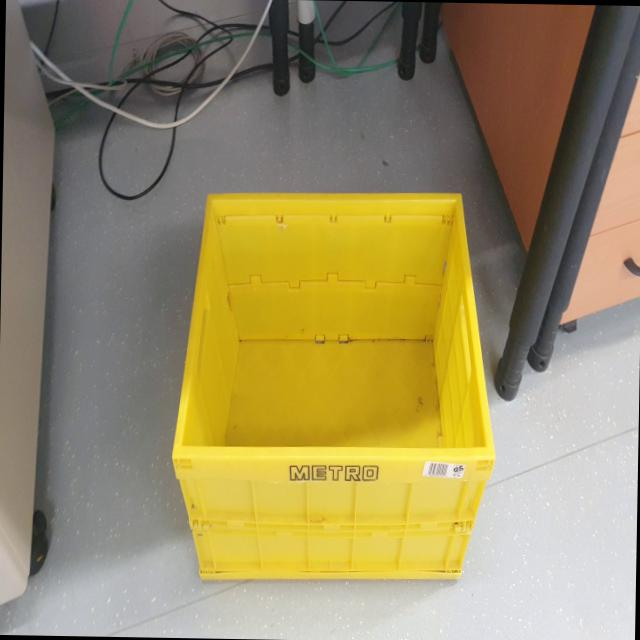box: (152, 168, 506, 603)
